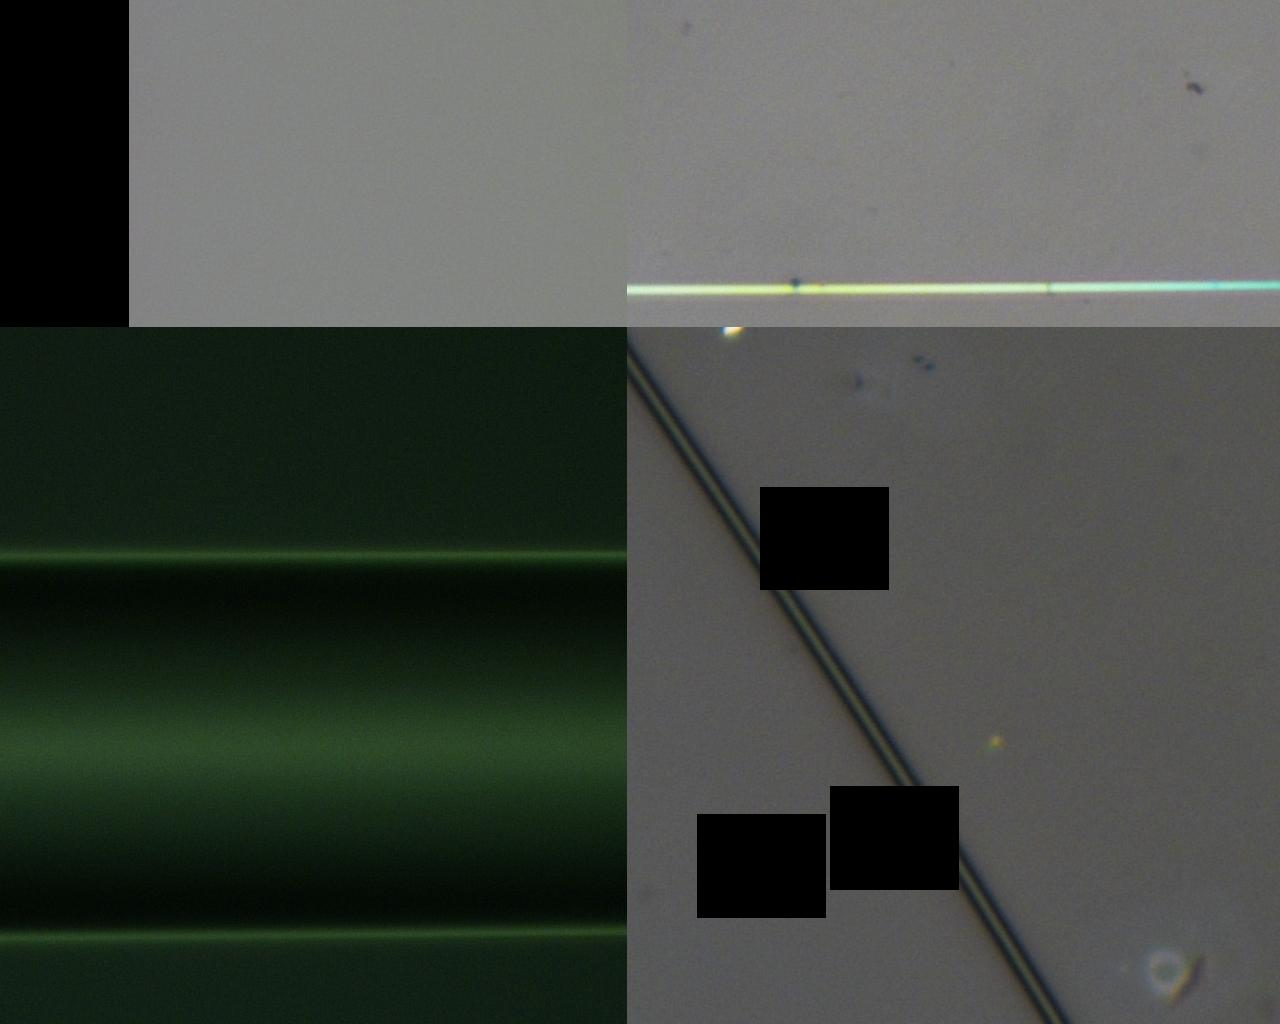fiber: (96, 399, 306, 1024), (350, 0, 435, 399), (1027, 0, 1094, 399)
